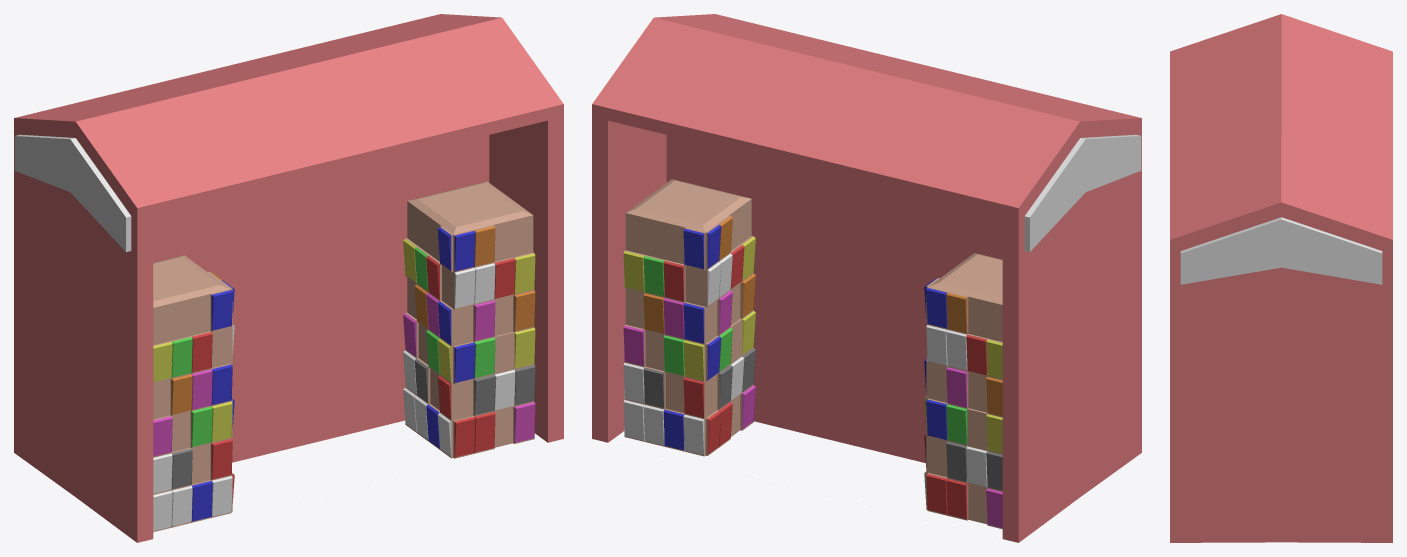
File: NewspaperStand.fbx
3 views of the same model, side by side, from view 1: azimuth 30°, elevation 25°; view 2: azimuth 150°, elevation 25°; view 3: azimuth 270°, elevation 25° (orthographic). The views are drawn at different scales.
Parts seen in each view (by area): view 1: Cube, Cube.002, Cube.001; view 2: Cube, Cube.003, Cube.004; view 3: Cube.
Boxes of the visible parts, box(x1,y1,x2,y2) form: Cube: box(14, 14, 563, 542); Cube.002: box(403, 181, 535, 458); Cube.001: box(153, 255, 234, 531); Cube: box(592, 14, 1141, 542); Cube.003: box(623, 179, 755, 456); Cube.004: box(924, 253, 1002, 529); Cube: box(1170, 14, 1392, 542).
Size of the model in its own units: 410 by 337 by 200.
